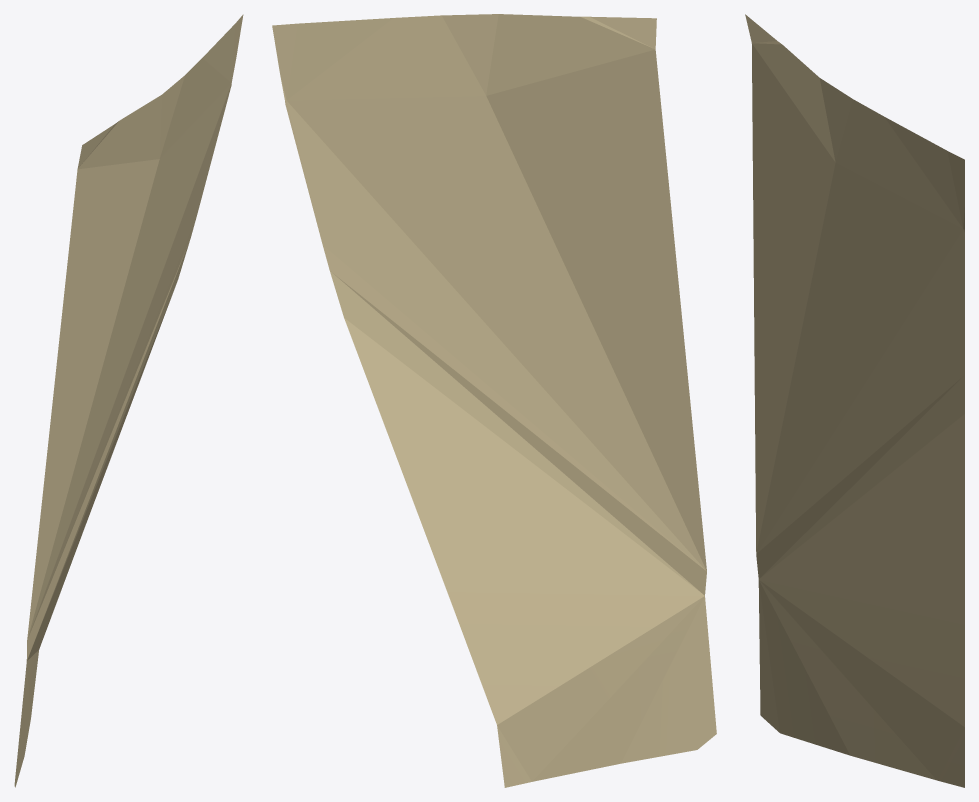
Rendered from bisect-0-3-9.gltf.
The picture shows the model from 3 angles, left to right: view 1: azimuth 30°, elevation 25°; view 2: azimuth 150°, elevation 25°; view 3: azimuth 270°, elevation 25°; orthographic projection. The views are drawn at different scales.
Visible parts, largest first — view 1: bisect-0-3-9; view 2: bisect-0-3-9; view 3: bisect-0-3-9.
Part boxes in pixels (x1,y1,x2,y2): bisect-0-3-9: [14, 14, 243, 787]; bisect-0-3-9: [272, 14, 716, 787]; bisect-0-3-9: [745, 14, 964, 787].
Size of the model in its own units: 10.33 by 20 by 5.32.
